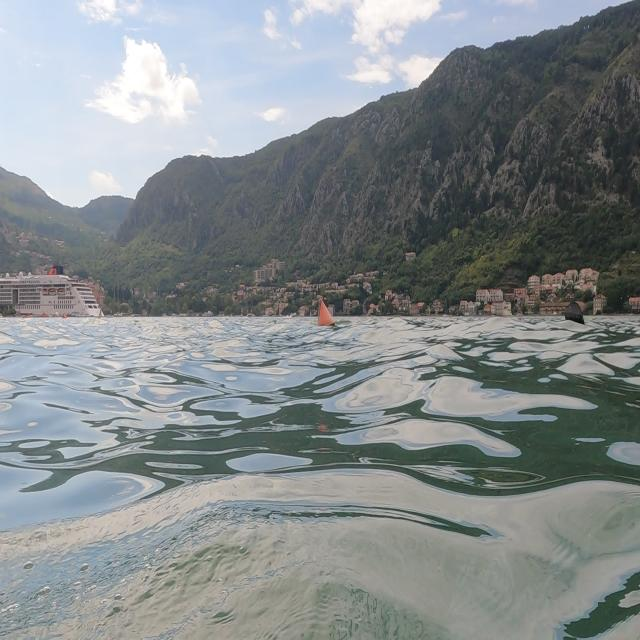boat: (0, 254, 111, 338)
buoy: (556, 298, 602, 349), (313, 292, 349, 349)
